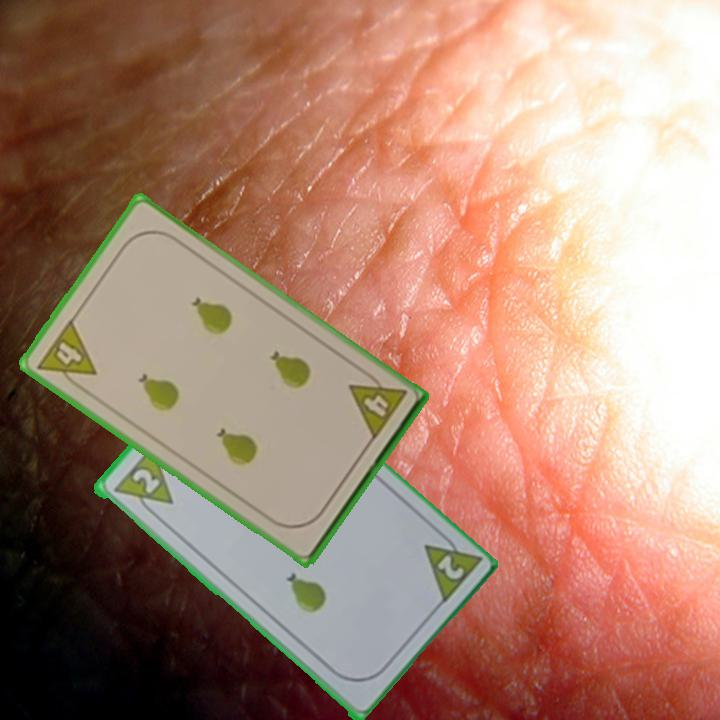2p: (419, 525, 483, 609), (128, 464, 163, 498)
4p: (33, 315, 100, 395), (345, 366, 410, 444)
